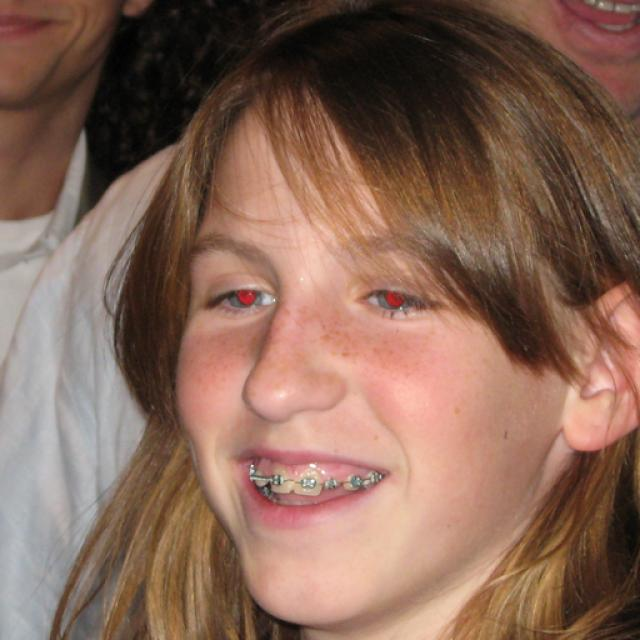happy: (171, 105, 560, 623)
